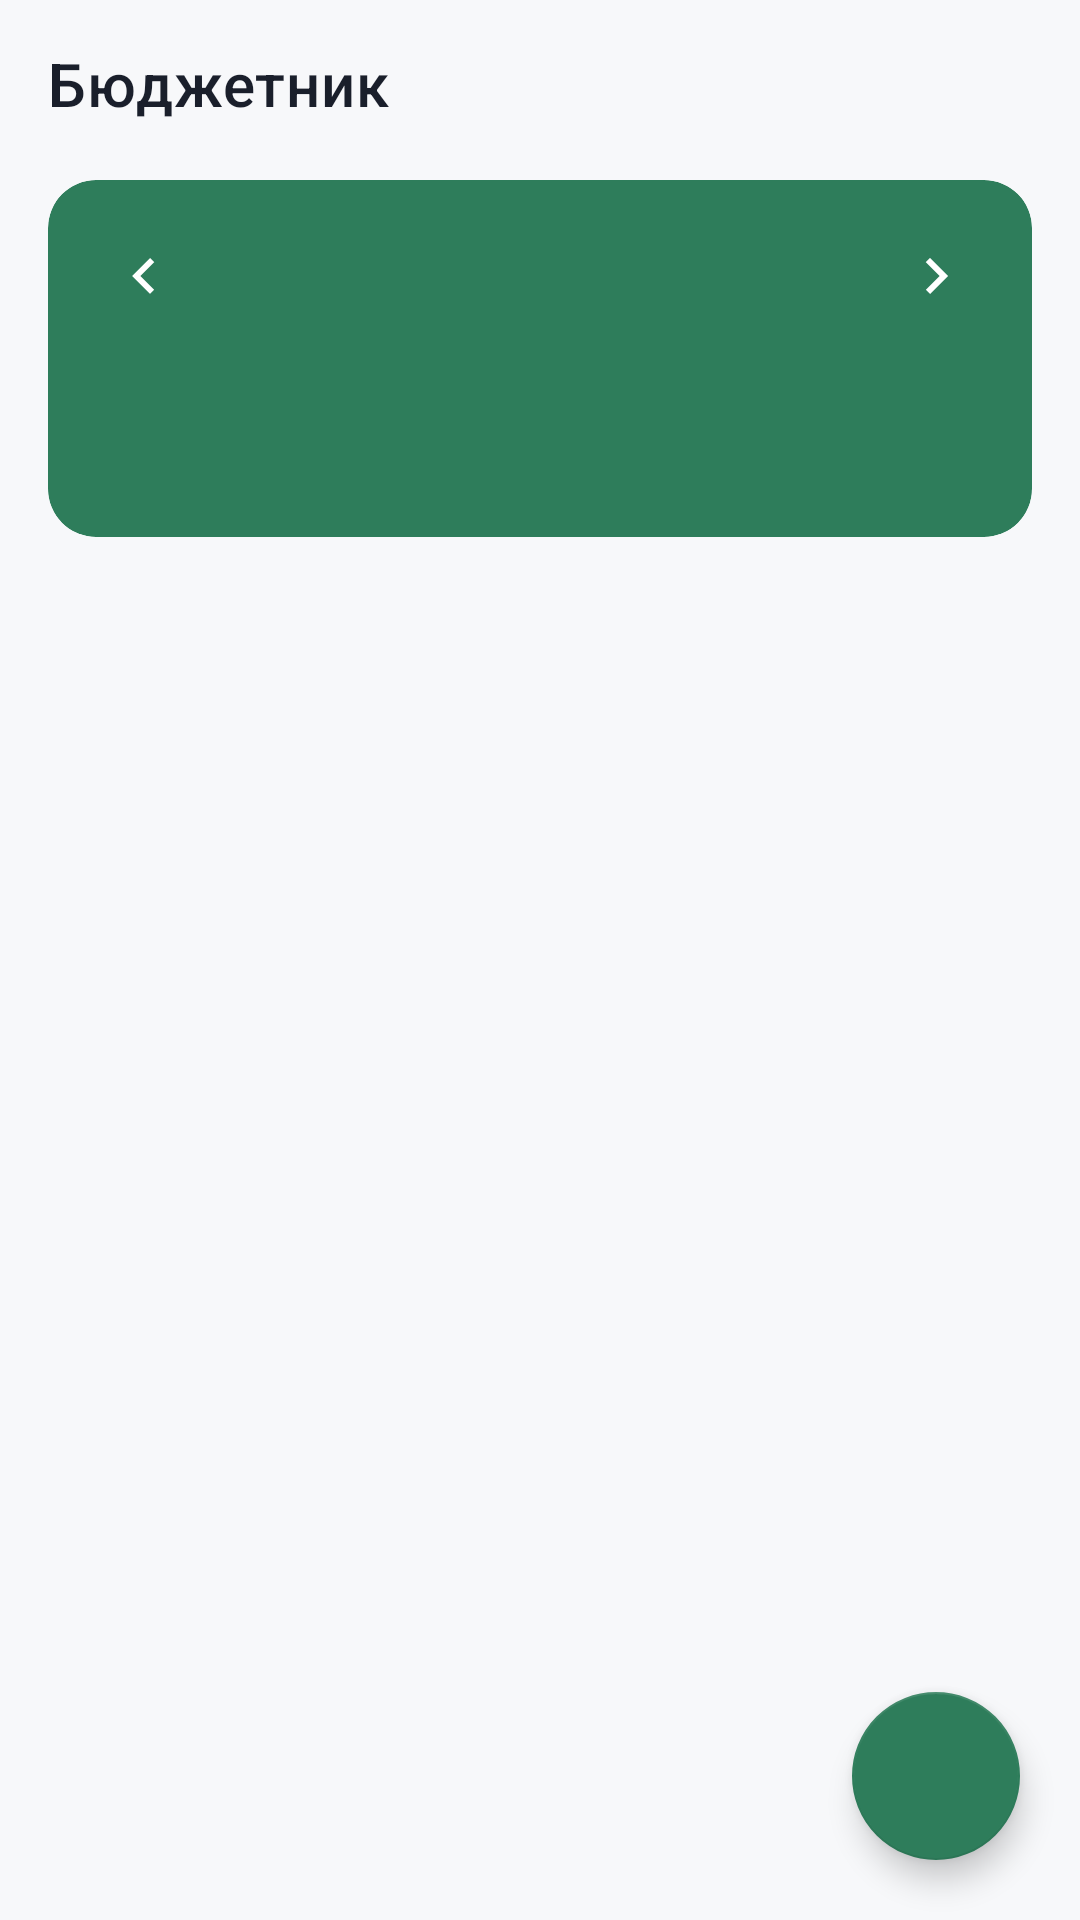

Named icons in this screenshot (1080x1920) and their bounding boxes, (x1, y1, x2, y2):
Предыдущий месяц: (132, 258, 154, 294)
Следующий месяц: (926, 258, 948, 294)
